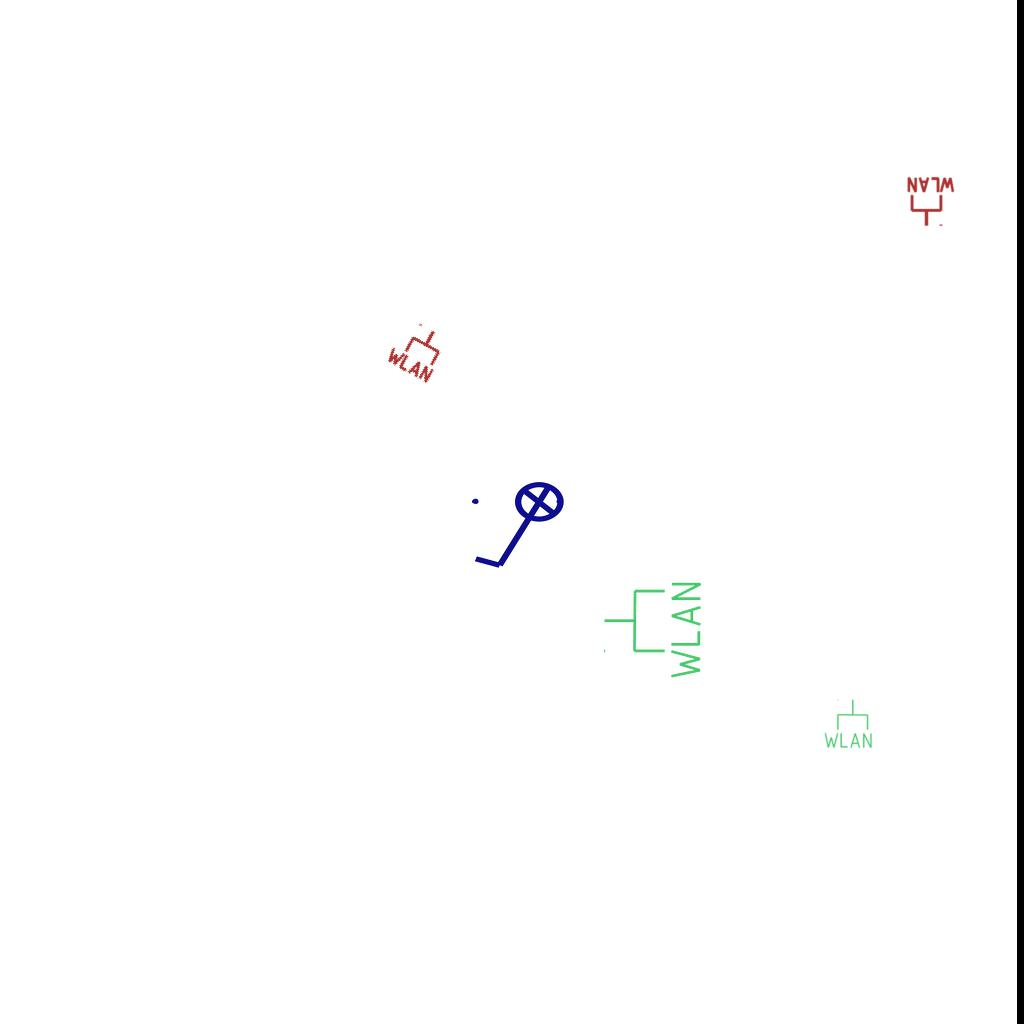Ausschalter_beleuchtet: (466, 480, 578, 576)
WLAN: (601, 578, 705, 683), (382, 314, 454, 386), (905, 176, 957, 228), (822, 698, 874, 750)
